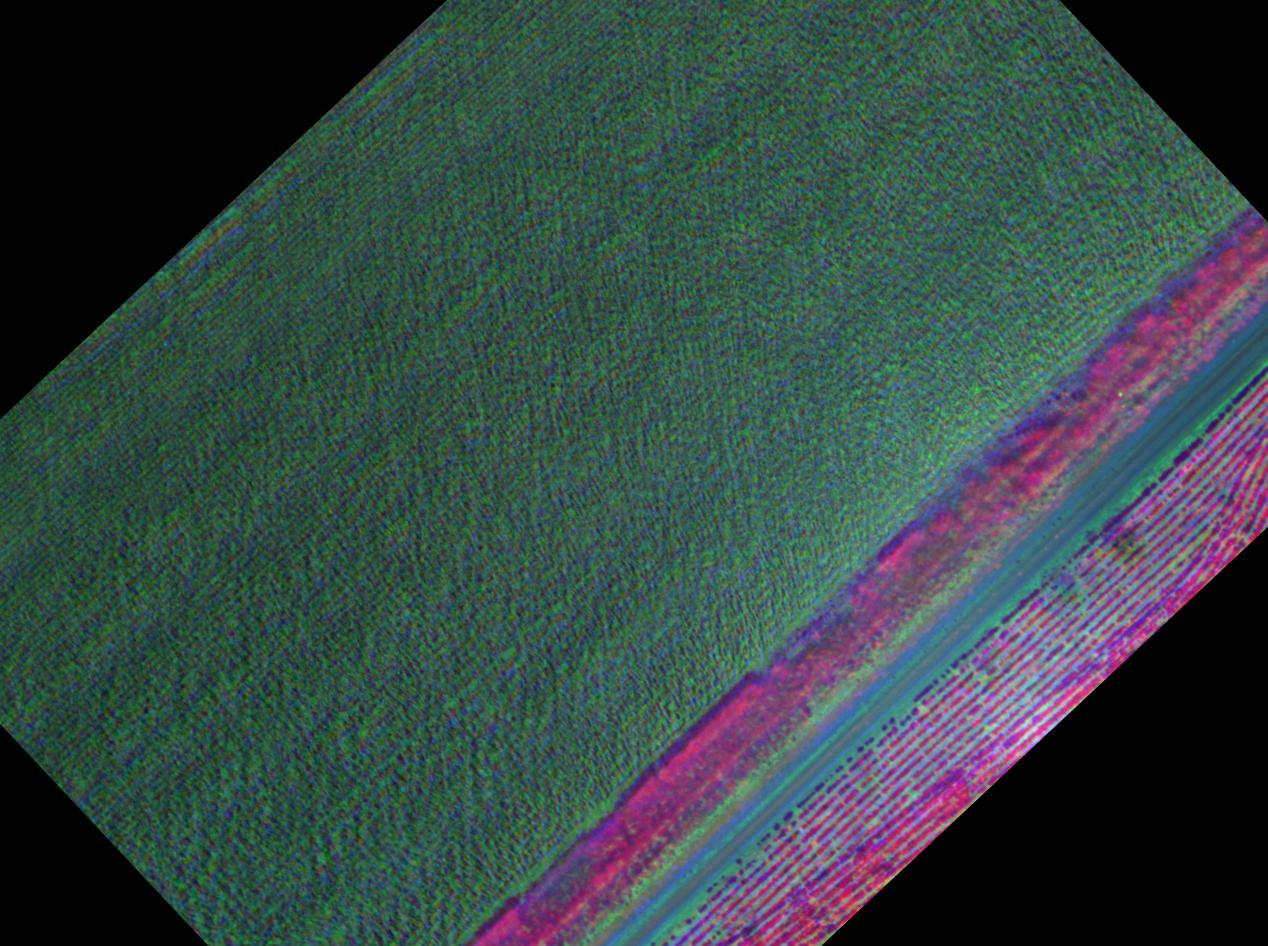dc: (1092, 510, 1155, 580)
